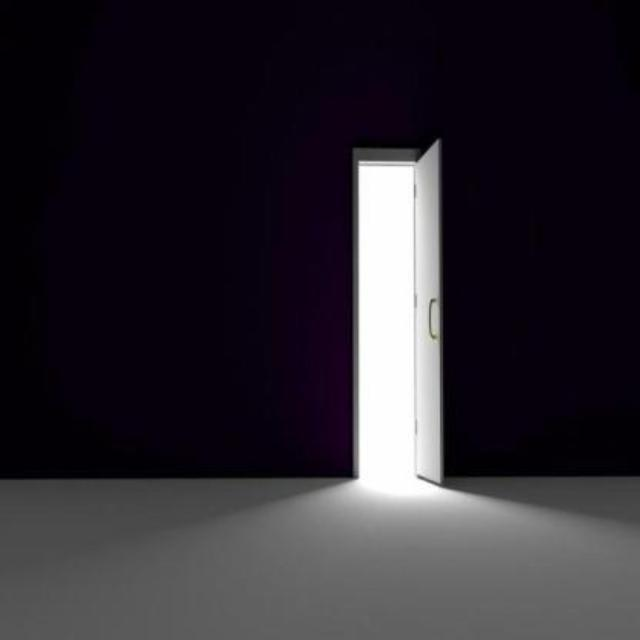Door: (413, 137, 443, 484)
